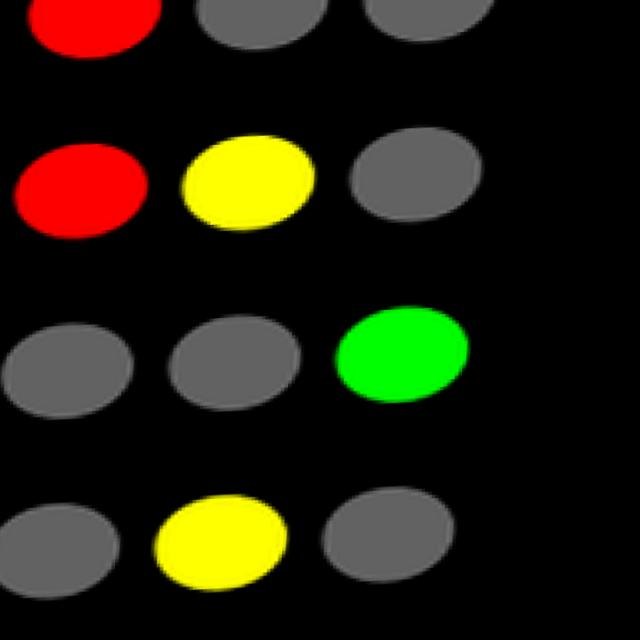green_light: (313, 285, 535, 456)
red_light: (0, 82, 188, 279), (3, 0, 190, 87)
yellow_light: (144, 428, 338, 629), (163, 93, 366, 259)
